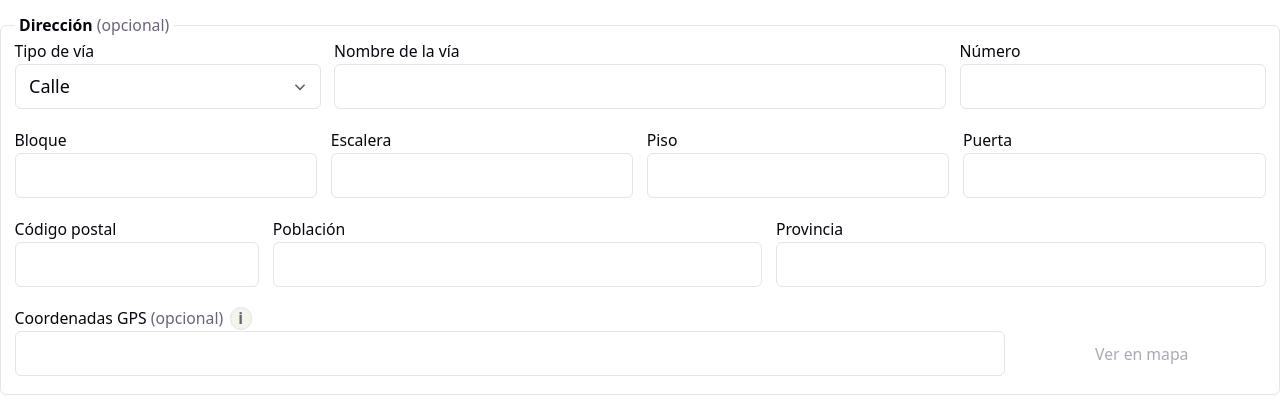
Test case: AddressFormBlock › disables the Google Maps action for invalid GPS input
In the field labelled "Coordenadas GPS (opcional)": coordinates (510, 354) [14, 332, 1004, 376], type "91,0"
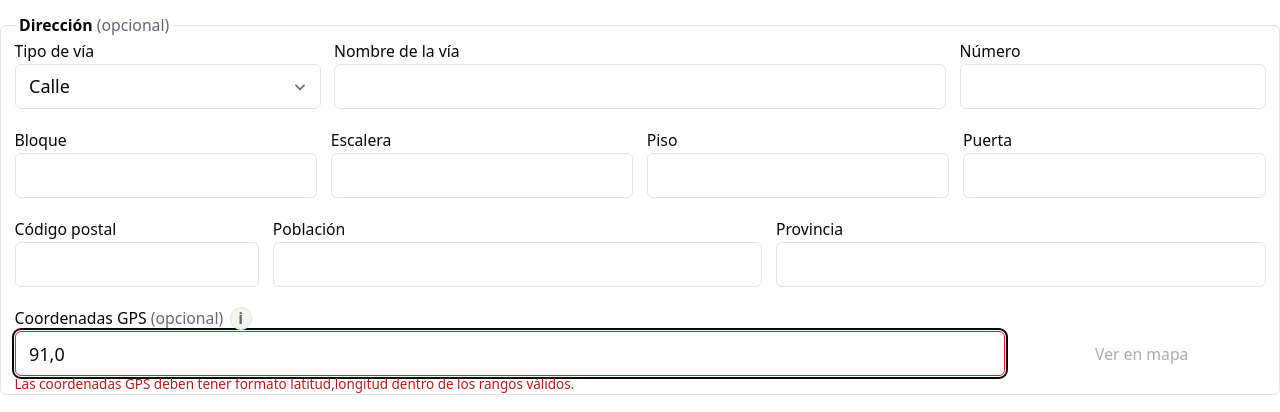
Expected: the button "Ver en mapa" is disabled, [1018, 332, 1266, 376]
Now the text "Las coordenadas GPS deben tener formato latitud,longitud dentro de los rangos válidos." is shown, box [14, 376, 574, 394]
